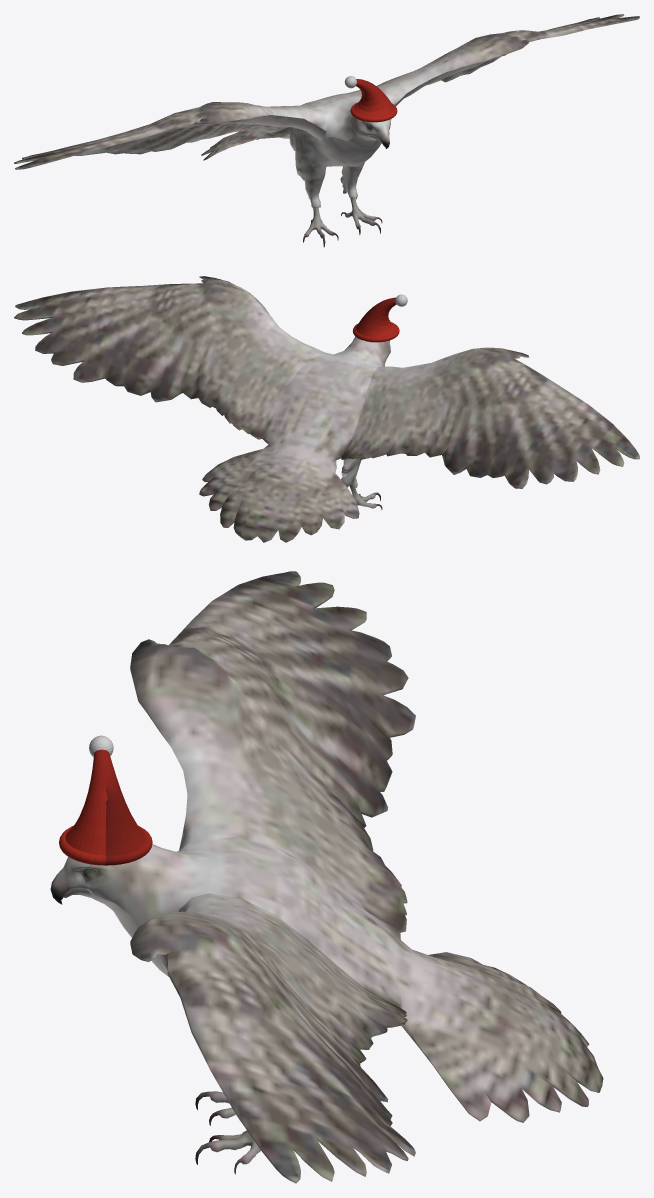
Rendered from birdWithHAT.obj.
3 renders of one model, top to bottom at view 1: azimuth 30°, elevation 25°; view 2: azimuth 150°, elevation 25°; view 3: azimuth 270°, elevation 25°, orthographic. The views are drawn at different scales.
Visible parts, largest first — view 1: Hat5_Material.001, Hat5_Mat_2; view 2: Hat5_Material.001, Hat5_Mat_2; view 3: Hat5_Material.001, Hat5_Mat_2.
Part boxes in pixels (bbox=[...]): Hat5_Material.001: bbox=[14, 14, 639, 247]; Hat5_Mat_2: bbox=[350, 79, 397, 122]; Hat5_Material.001: bbox=[14, 276, 639, 542]; Hat5_Mat_2: bbox=[353, 297, 399, 342]; Hat5_Material.001: bbox=[50, 571, 603, 1183]; Hat5_Mat_2: bbox=[59, 749, 152, 865].
Bounding box in the file's own units: 3.79 × 1.09 × 1.45.
